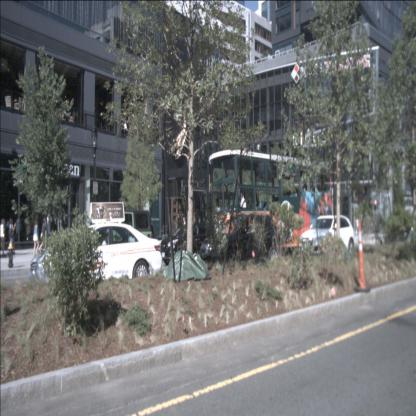human-pedestrian-adult: (32, 219, 40, 258), (8, 218, 16, 254), (38, 218, 46, 253), (0, 218, 6, 256), (46, 210, 51, 246)
movable_object-trafficcone: (354, 219, 370, 292)
vehicle-bus-rigid: (208, 150, 332, 262)
vehicle-car: (30, 222, 162, 297), (199, 213, 281, 271), (83, 209, 156, 268), (299, 214, 355, 267), (160, 221, 219, 269)
